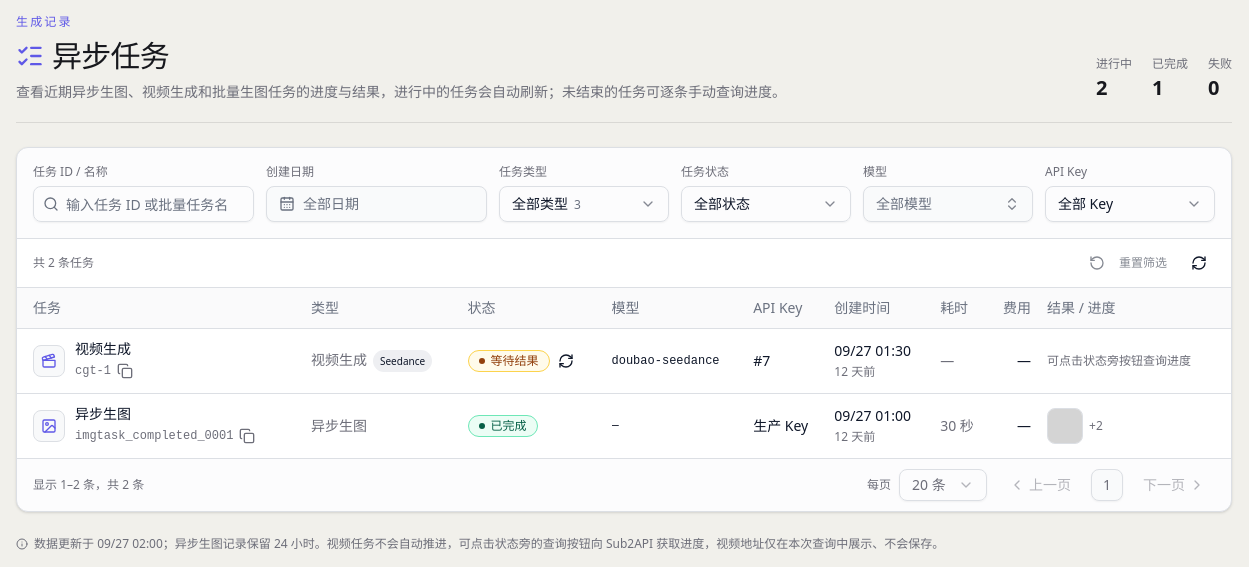
AsyncTasksPortalPage › single task refresh › queries a Seedance video upstream, shows the signed link and keeps it after a silent reload
Expected: the text "Seedance" is shown, [373, 350, 432, 372]
Step 1. Click the button named "查询任务进度" → (566, 360), box [554, 348, 578, 372]
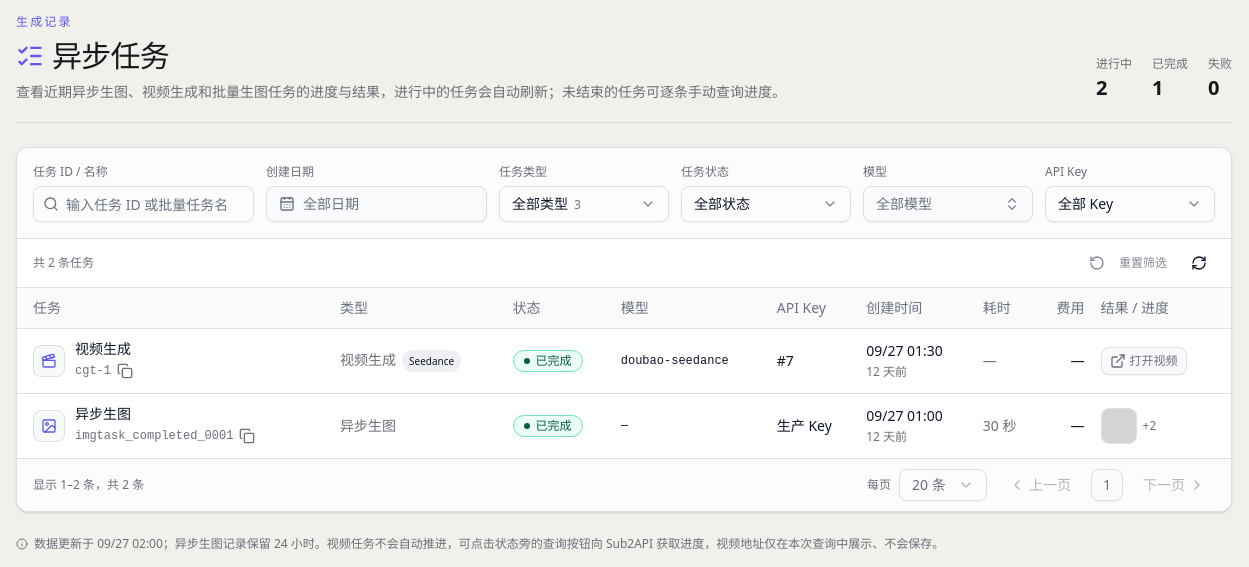
Expected: the text "已完成" is shown, [513, 350, 583, 372]
Expected: the button "查询任务进度" is gone
